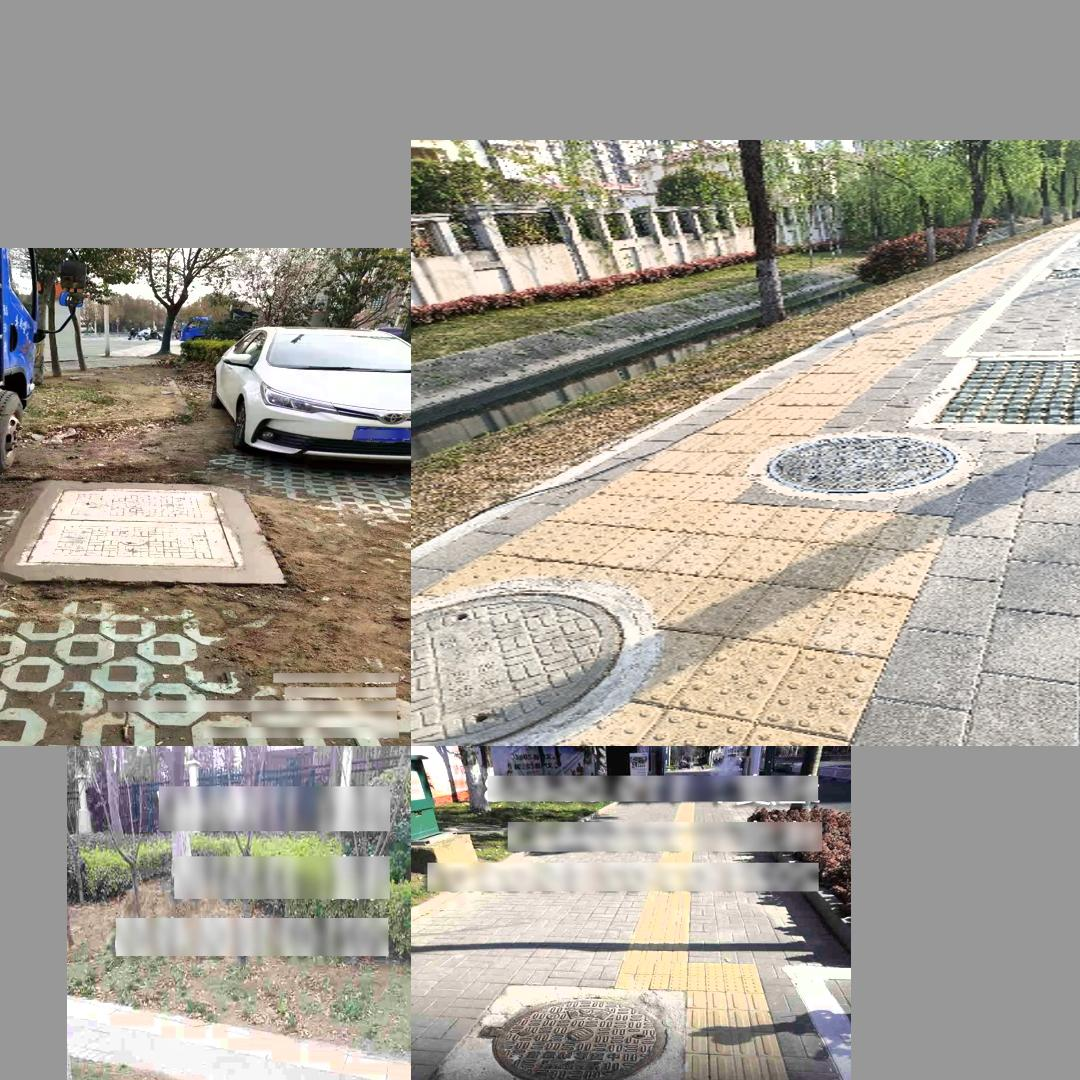good: (411, 583, 641, 746), (16, 487, 242, 568), (475, 997, 665, 1080), (749, 430, 971, 497)
